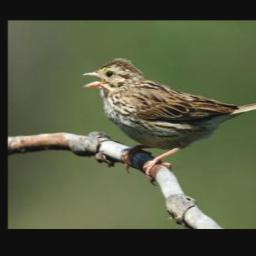Sparrow: (79, 56, 256, 186)
